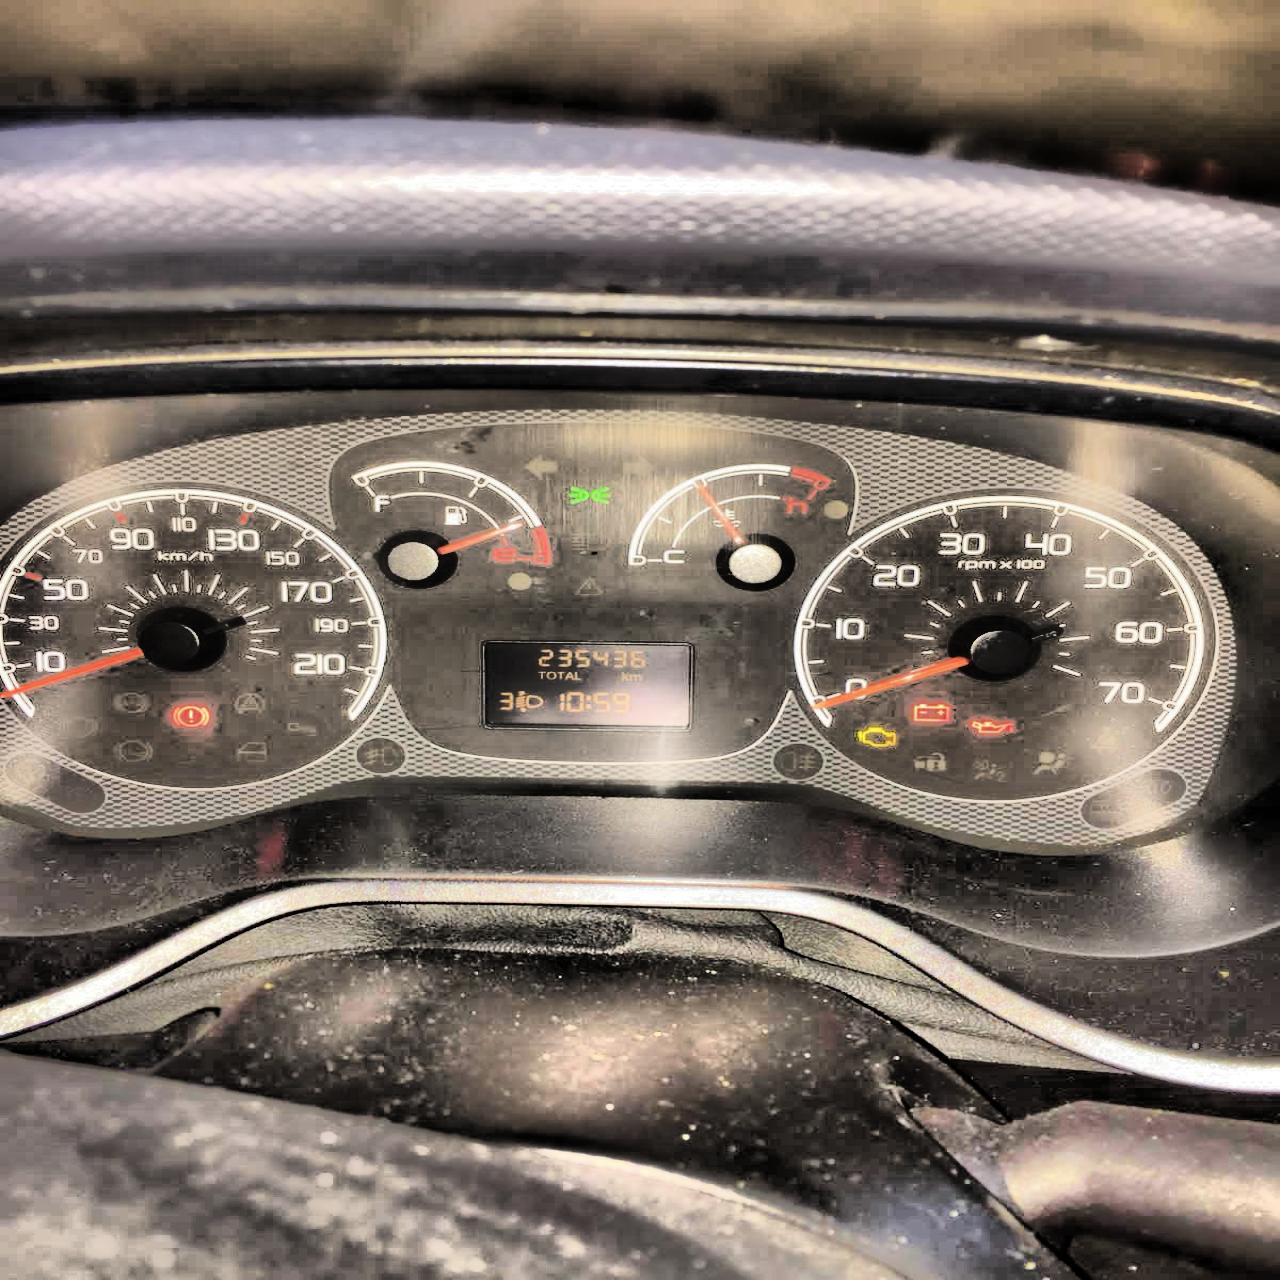0: (565, 689, 584, 713)
1: (557, 692, 565, 712)
2: (536, 648, 552, 666)
3: (496, 689, 513, 710), (611, 648, 626, 668), (556, 648, 571, 667)
4: (591, 651, 608, 667)
5: (591, 689, 610, 713), (573, 648, 590, 668)
6: (628, 649, 646, 668)
9: (610, 692, 629, 713)
X: (628, 673, 642, 681), (584, 694, 591, 710), (546, 669, 556, 680), (564, 670, 573, 680), (536, 669, 545, 679), (620, 670, 627, 682), (556, 670, 564, 680), (573, 670, 580, 680)
odometer: (472, 632, 701, 734)
